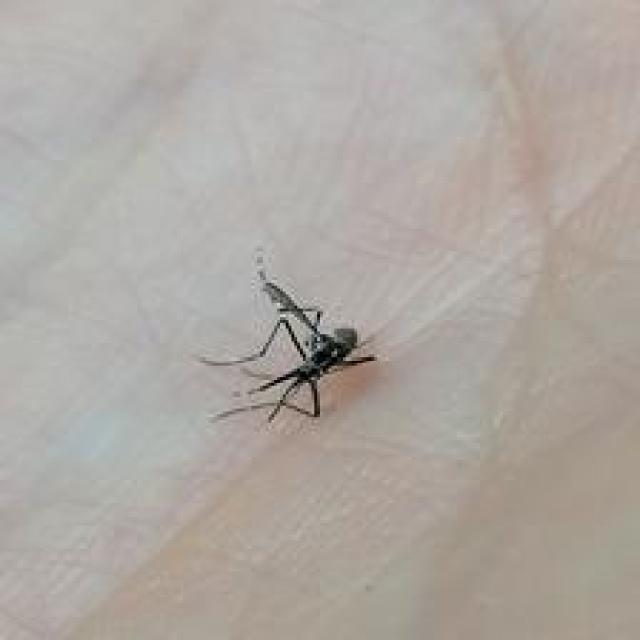Aedes albopictus: (197, 247, 377, 424)
